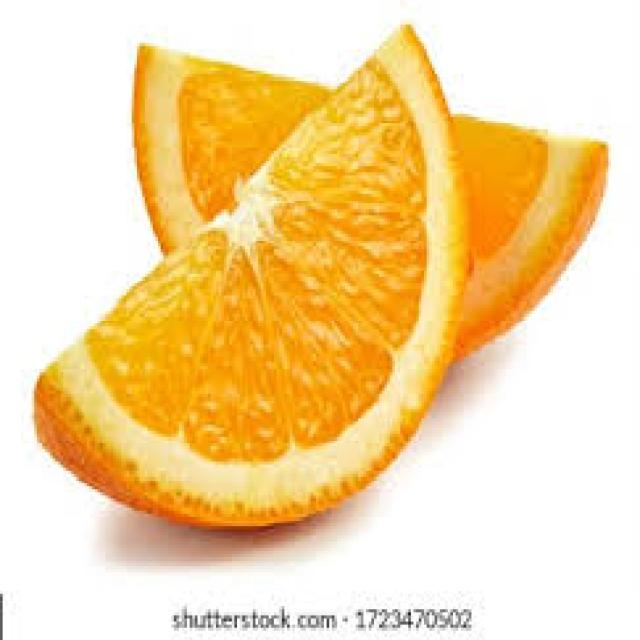orange: (30, 31, 463, 528)
